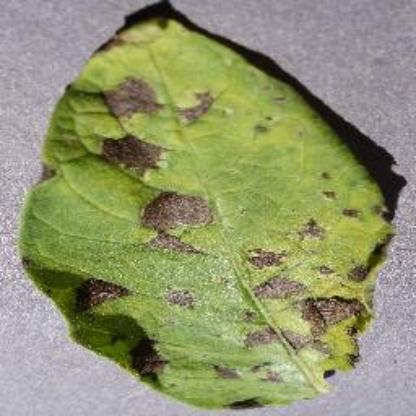Early-Blight: (16, 6, 394, 408)
